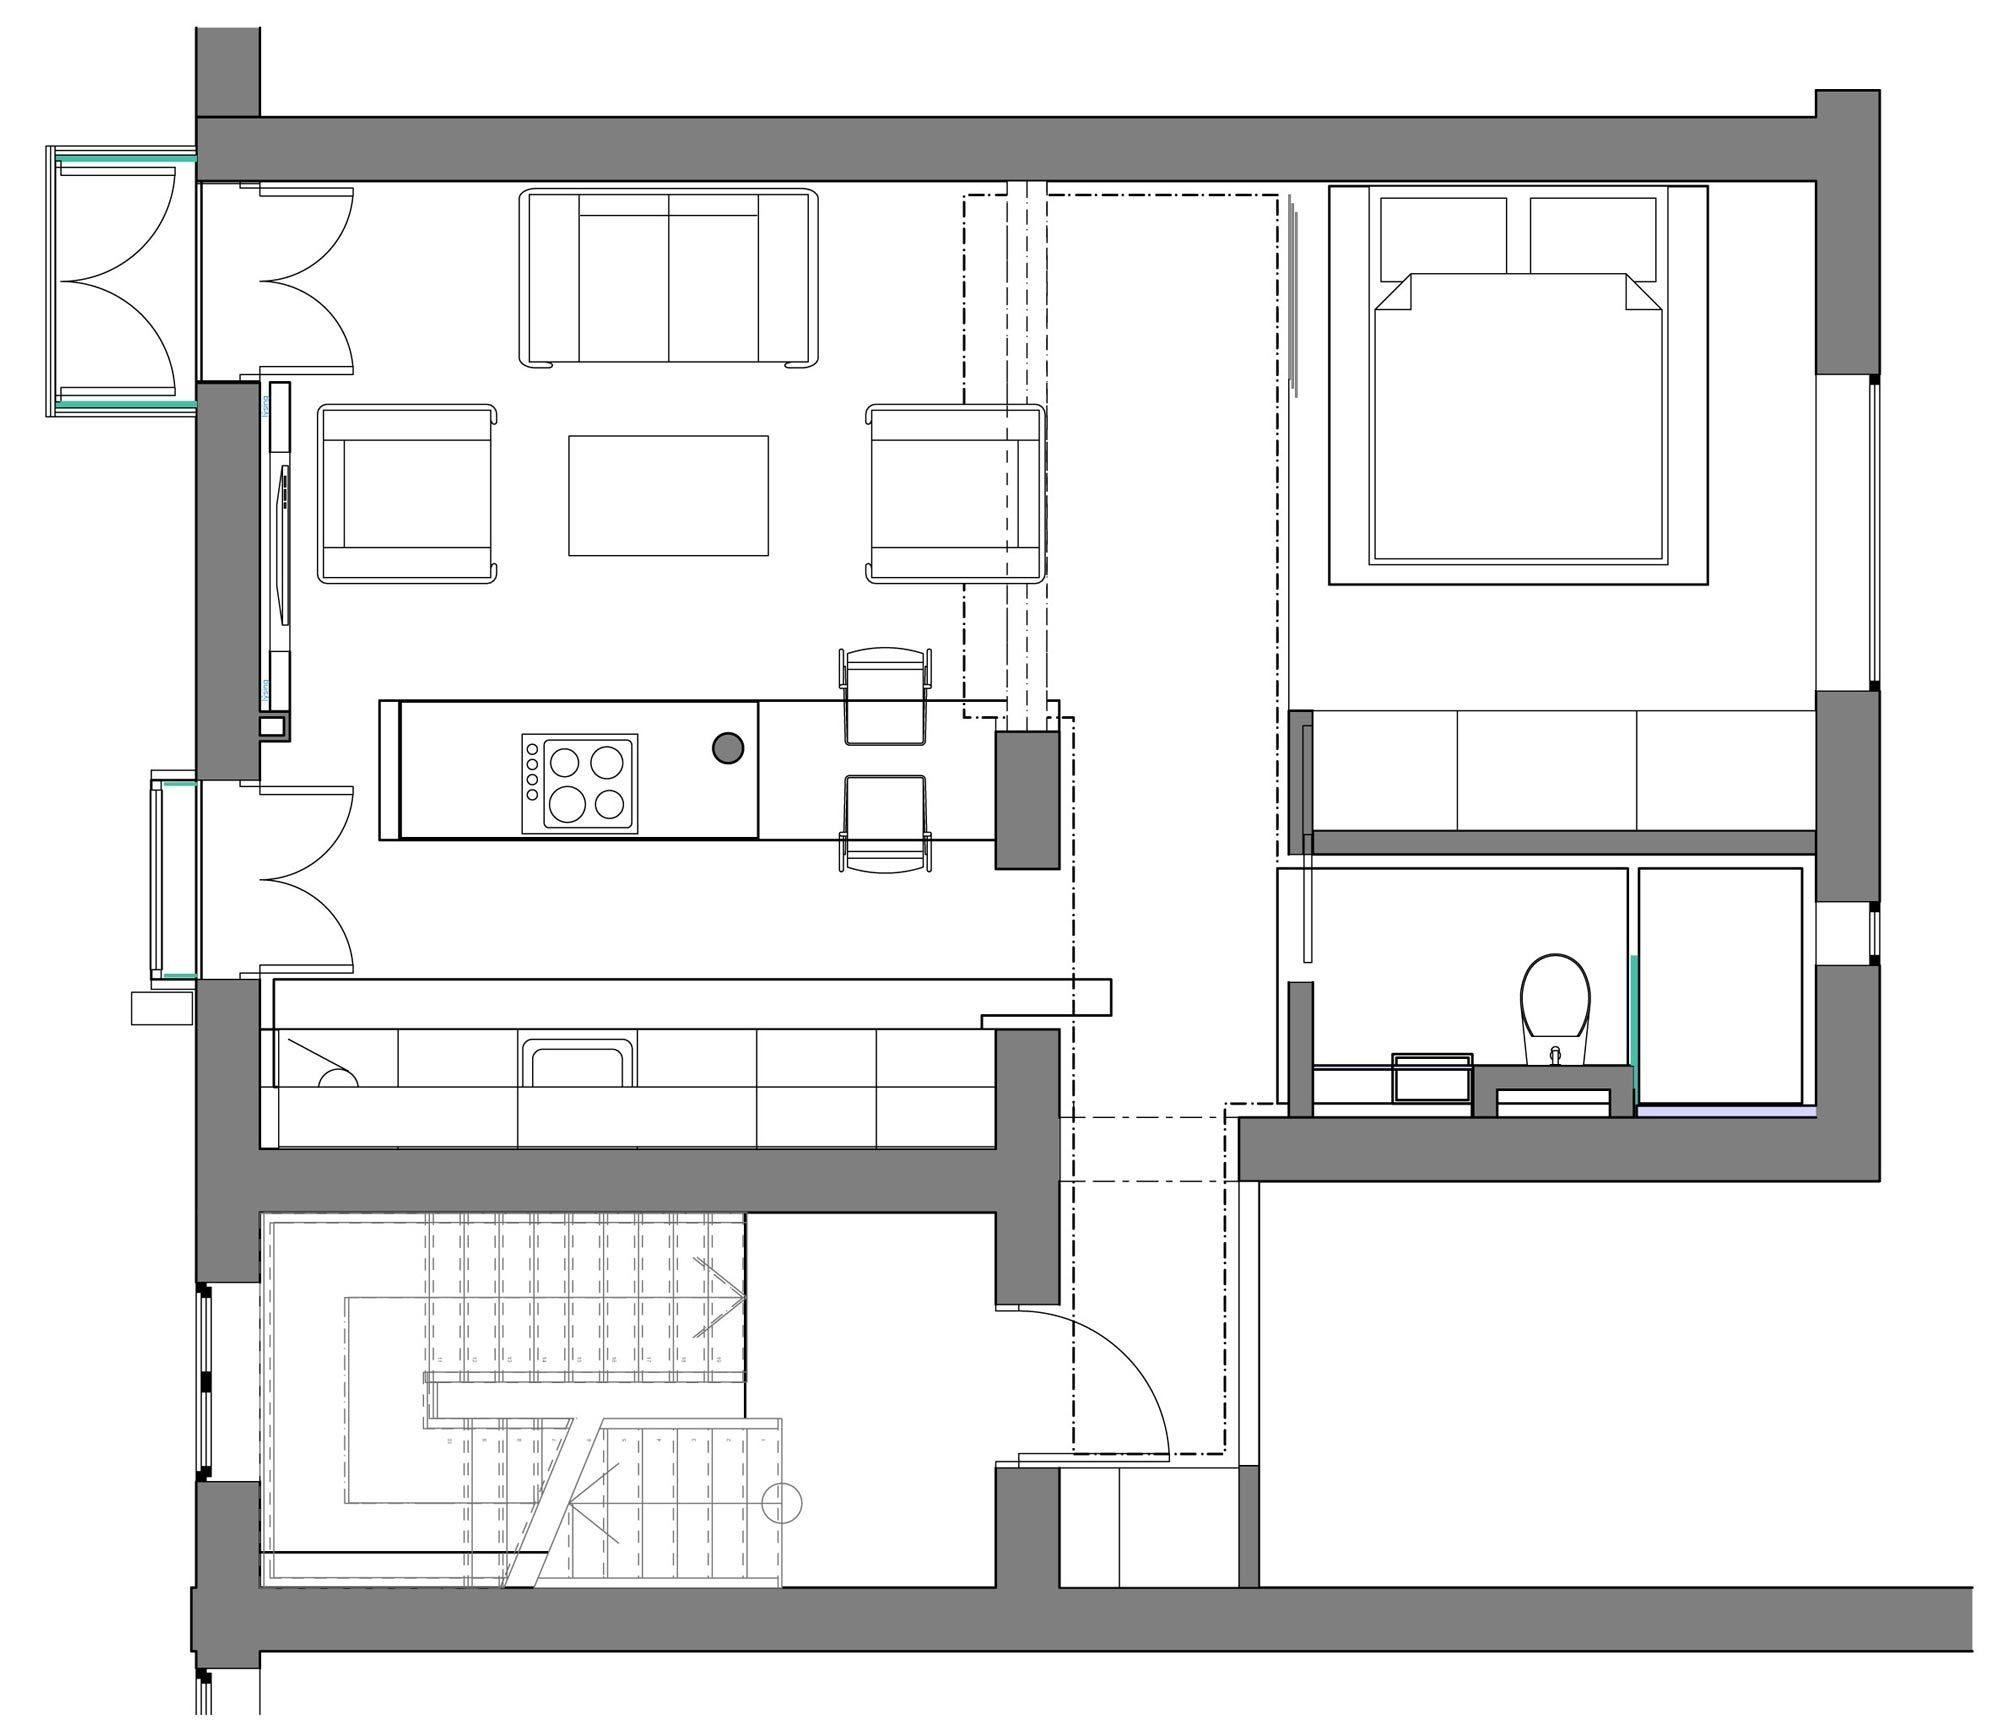door: (61, 170, 184, 393), (1026, 1309, 1172, 1457), (248, 190, 359, 372), (257, 789, 357, 971)
